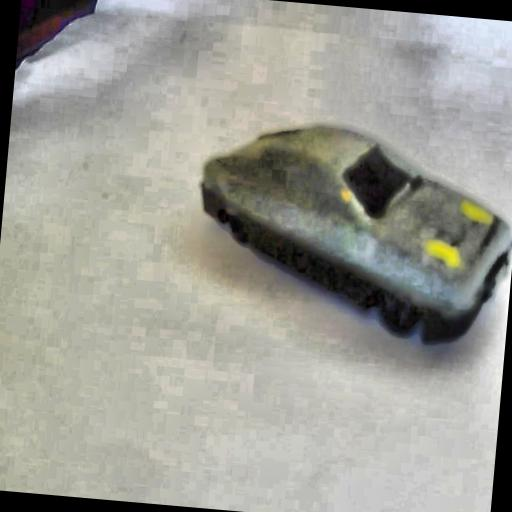normal_car: (180, 103, 512, 354)
